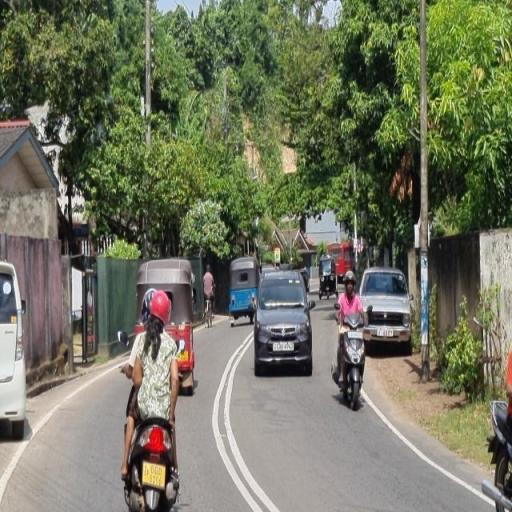double_white_line: (212, 330, 279, 512)
